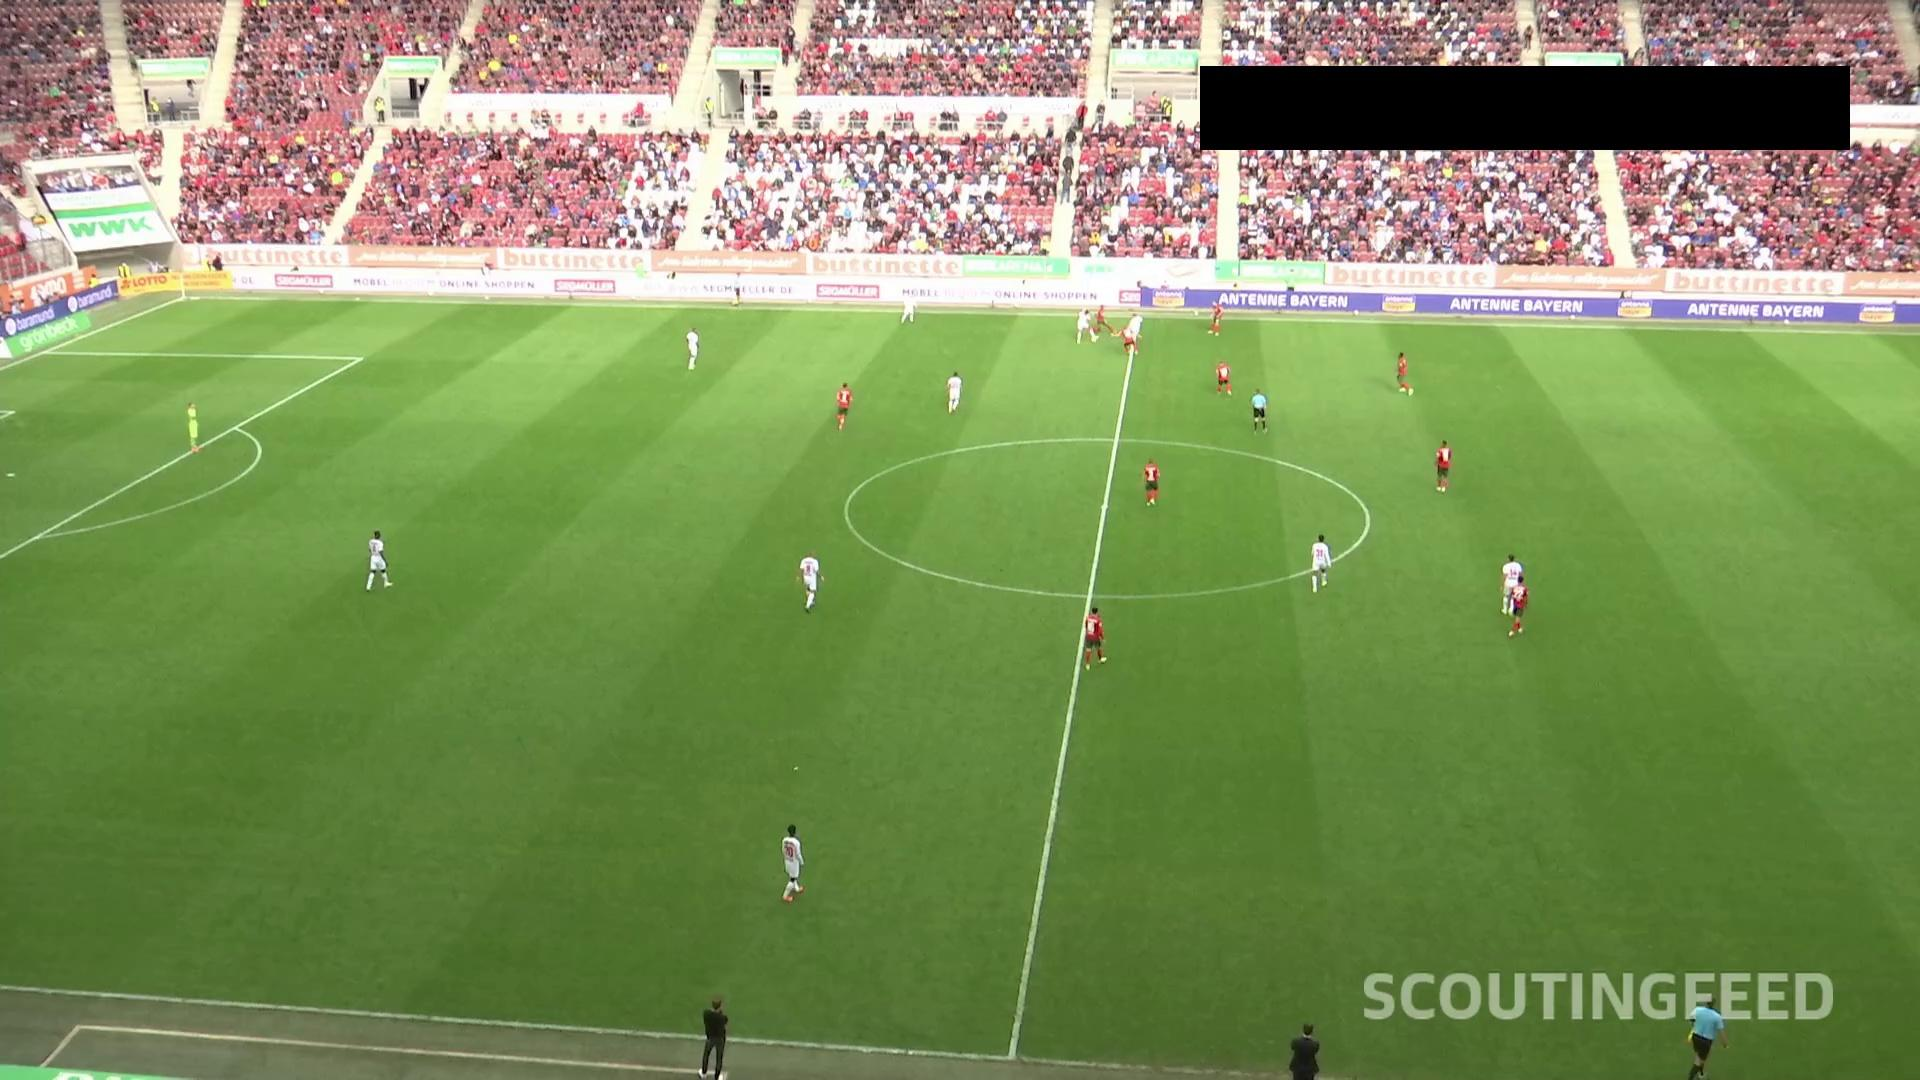Location-of-ball: (1085, 330, 1110, 347)
